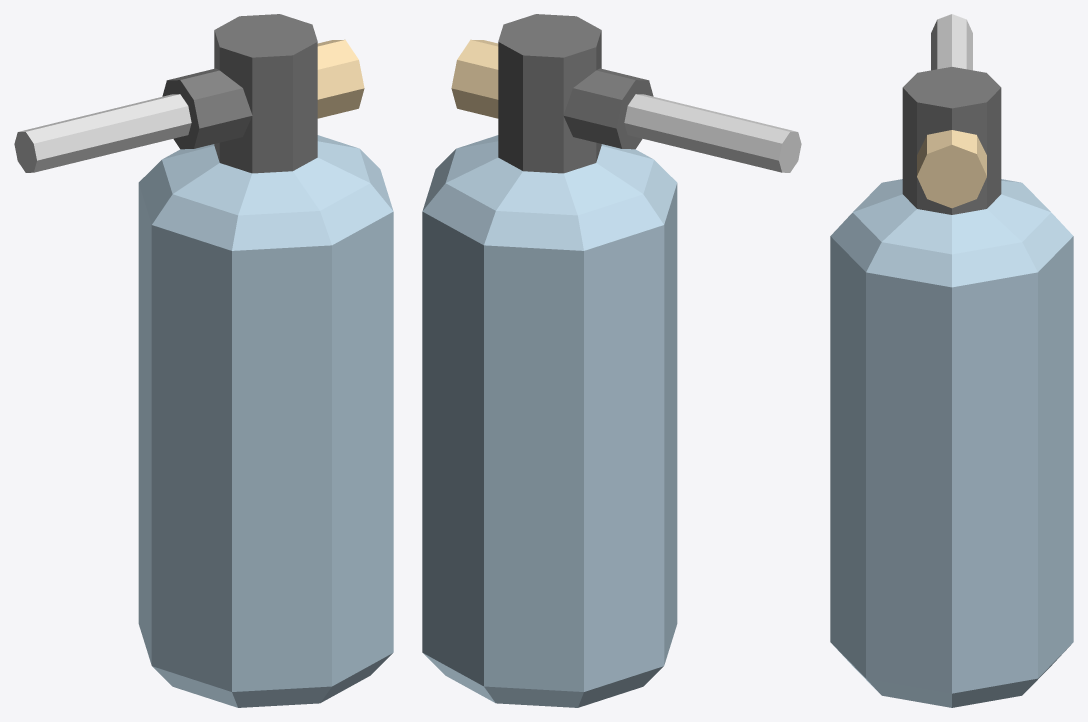
The model's file is BlowTorch.fbx.
The picture shows the model from 3 angles, left to right: view 1: azimuth 30°, elevation 25°; view 2: azimuth 150°, elevation 25°; view 3: azimuth 270°, elevation 25°; orthographic projection. The views are drawn at different scales.
Parts seen in each view (by area): view 1: BlowTorch; view 2: BlowTorch; view 3: BlowTorch.
Part boxes in pixels (left/top/right/bottom): BlowTorch: left=14, top=14, right=393, bottom=707; BlowTorch: left=422, top=14, right=801, bottom=707; BlowTorch: left=830, top=14, right=1073, bottom=707.
Bounding box in the file's own units: 0.2147 × 0.3733 × 0.1384.
